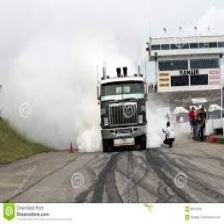smoke: (3, 6, 100, 147), (149, 117, 164, 145)
